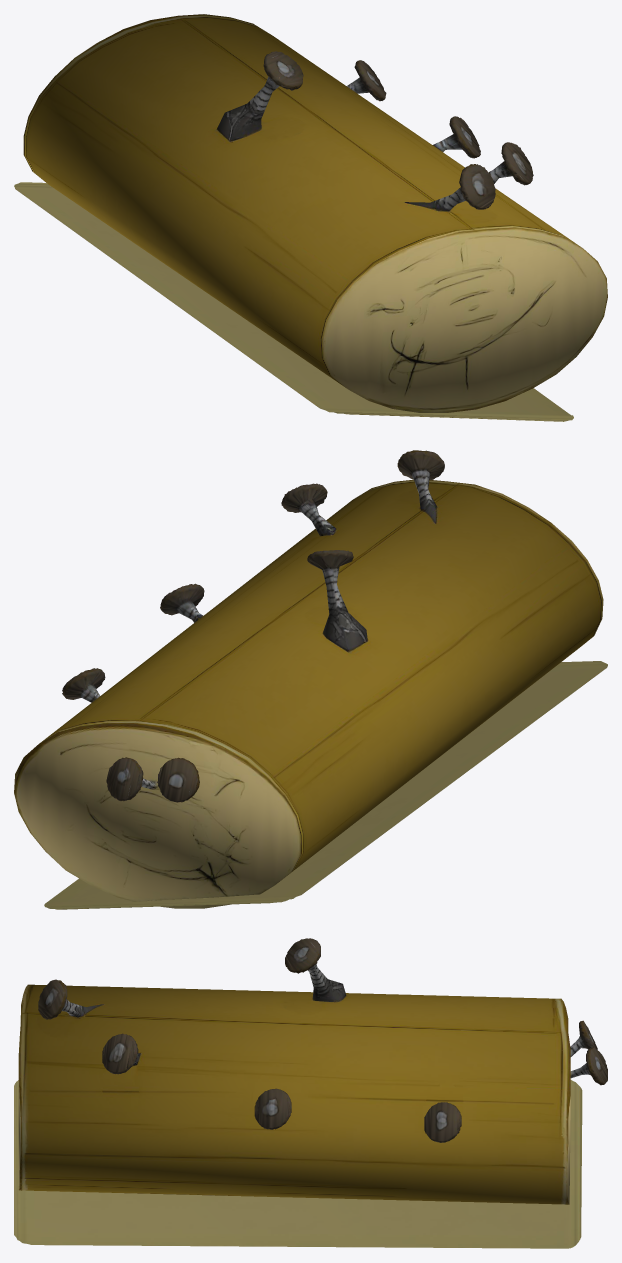
The model's file is substitution_log.glb.
The picture shows the model from 3 angles, top to bottom: view 1: azimuth 30°, elevation 25°; view 2: azimuth 150°, elevation 25°; view 3: azimuth 270°, elevation 25°; orthographic projection. The views are drawn at different scales.
Parts seen in each view (by area): view 1: Kunai Studded Substitution Log; view 2: Kunai Studded Substitution Log; view 3: Kunai Studded Substitution Log.
Part boxes in pixels (x1,y1,x2,y2): Kunai Studded Substitution Log: (14, 14, 607, 421); Kunai Studded Substitution Log: (14, 450, 607, 909); Kunai Studded Substitution Log: (14, 938, 607, 1248).
Bounding box in the file's own units: 0.5137 × 0.459 × 0.998.
1 material, 1 textured.
